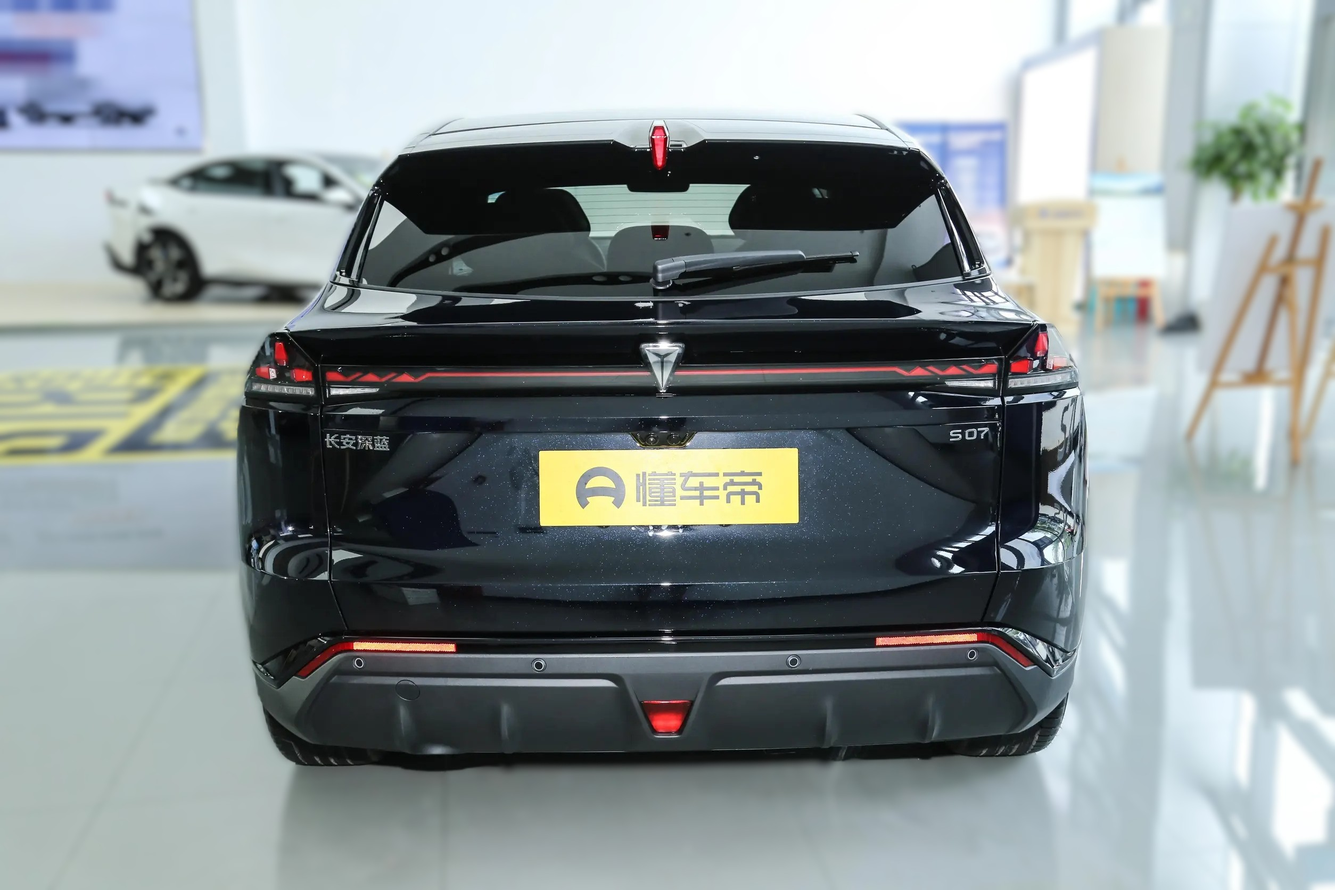Deepal: (646, 347, 679, 387)
